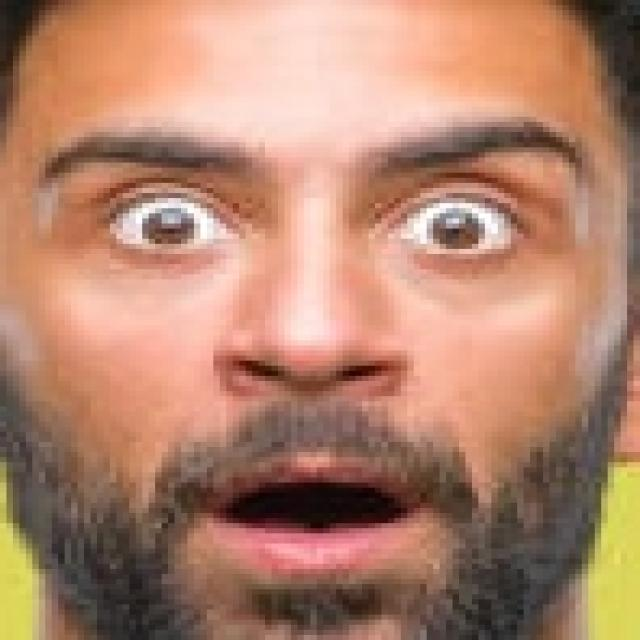Anxiety: (6, 0, 640, 635)
